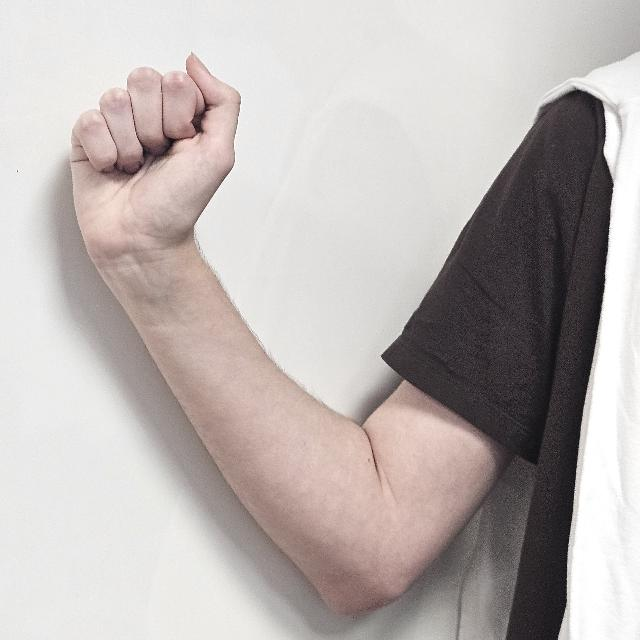Quadro: (60, 53, 266, 270)
